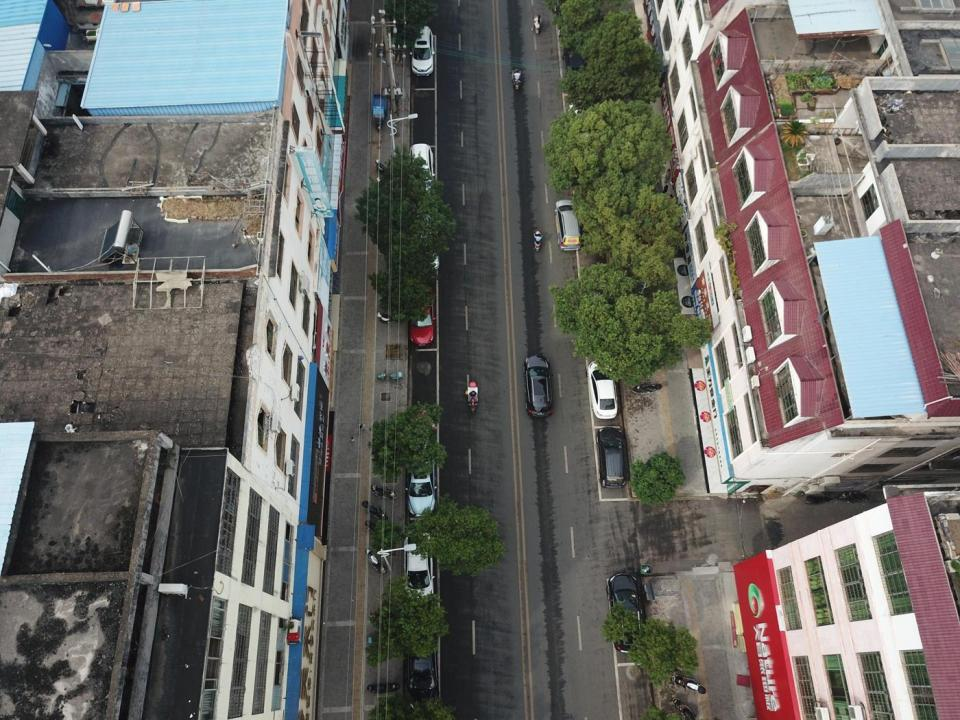car: (606, 572, 645, 651), (406, 636, 437, 711), (403, 533, 434, 600), (522, 354, 554, 418), (596, 426, 625, 488), (408, 453, 435, 517), (588, 359, 617, 418), (411, 215, 439, 270), (410, 143, 435, 199), (556, 199, 582, 252), (410, 296, 436, 346), (411, 25, 434, 77)
